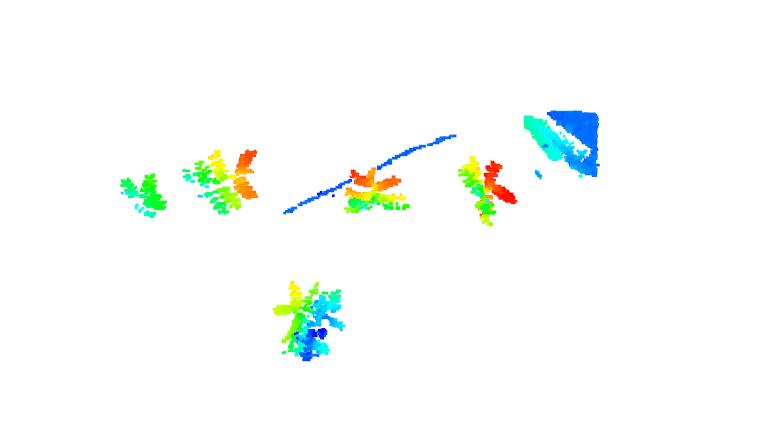chickpea: (274, 281, 348, 360), (179, 148, 258, 216), (457, 157, 520, 228), (344, 168, 409, 217), (119, 173, 170, 220)
